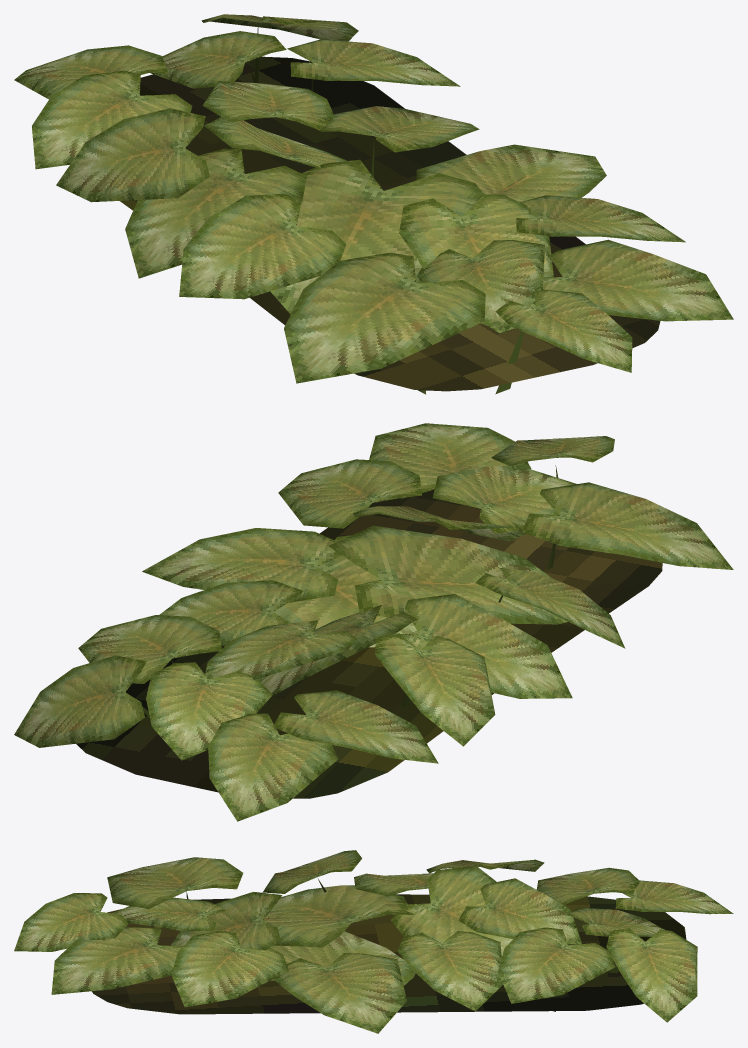
The model's file is Plants_1x2_A_LOW.FBX.
3 views of the same model, one above another, from view 1: azimuth 30°, elevation 25°; view 2: azimuth 150°, elevation 25°; view 3: azimuth 270°, elevation 25° (orthographic). The views are drawn at different scales.
Parts seen in each view (by area): view 1: Plants_1x2_A_LOW; view 2: Plants_1x2_A_LOW; view 3: Plants_1x2_A_LOW.
Boxes of the visible parts, x1,y1,x2,y2 form: Plants_1x2_A_LOW: (14, 14, 733, 394); Plants_1x2_A_LOW: (14, 423, 733, 821); Plants_1x2_A_LOW: (14, 850, 733, 1033).
Bounding box in the file's own units: 1.17 × 0.3549 × 2.11.
